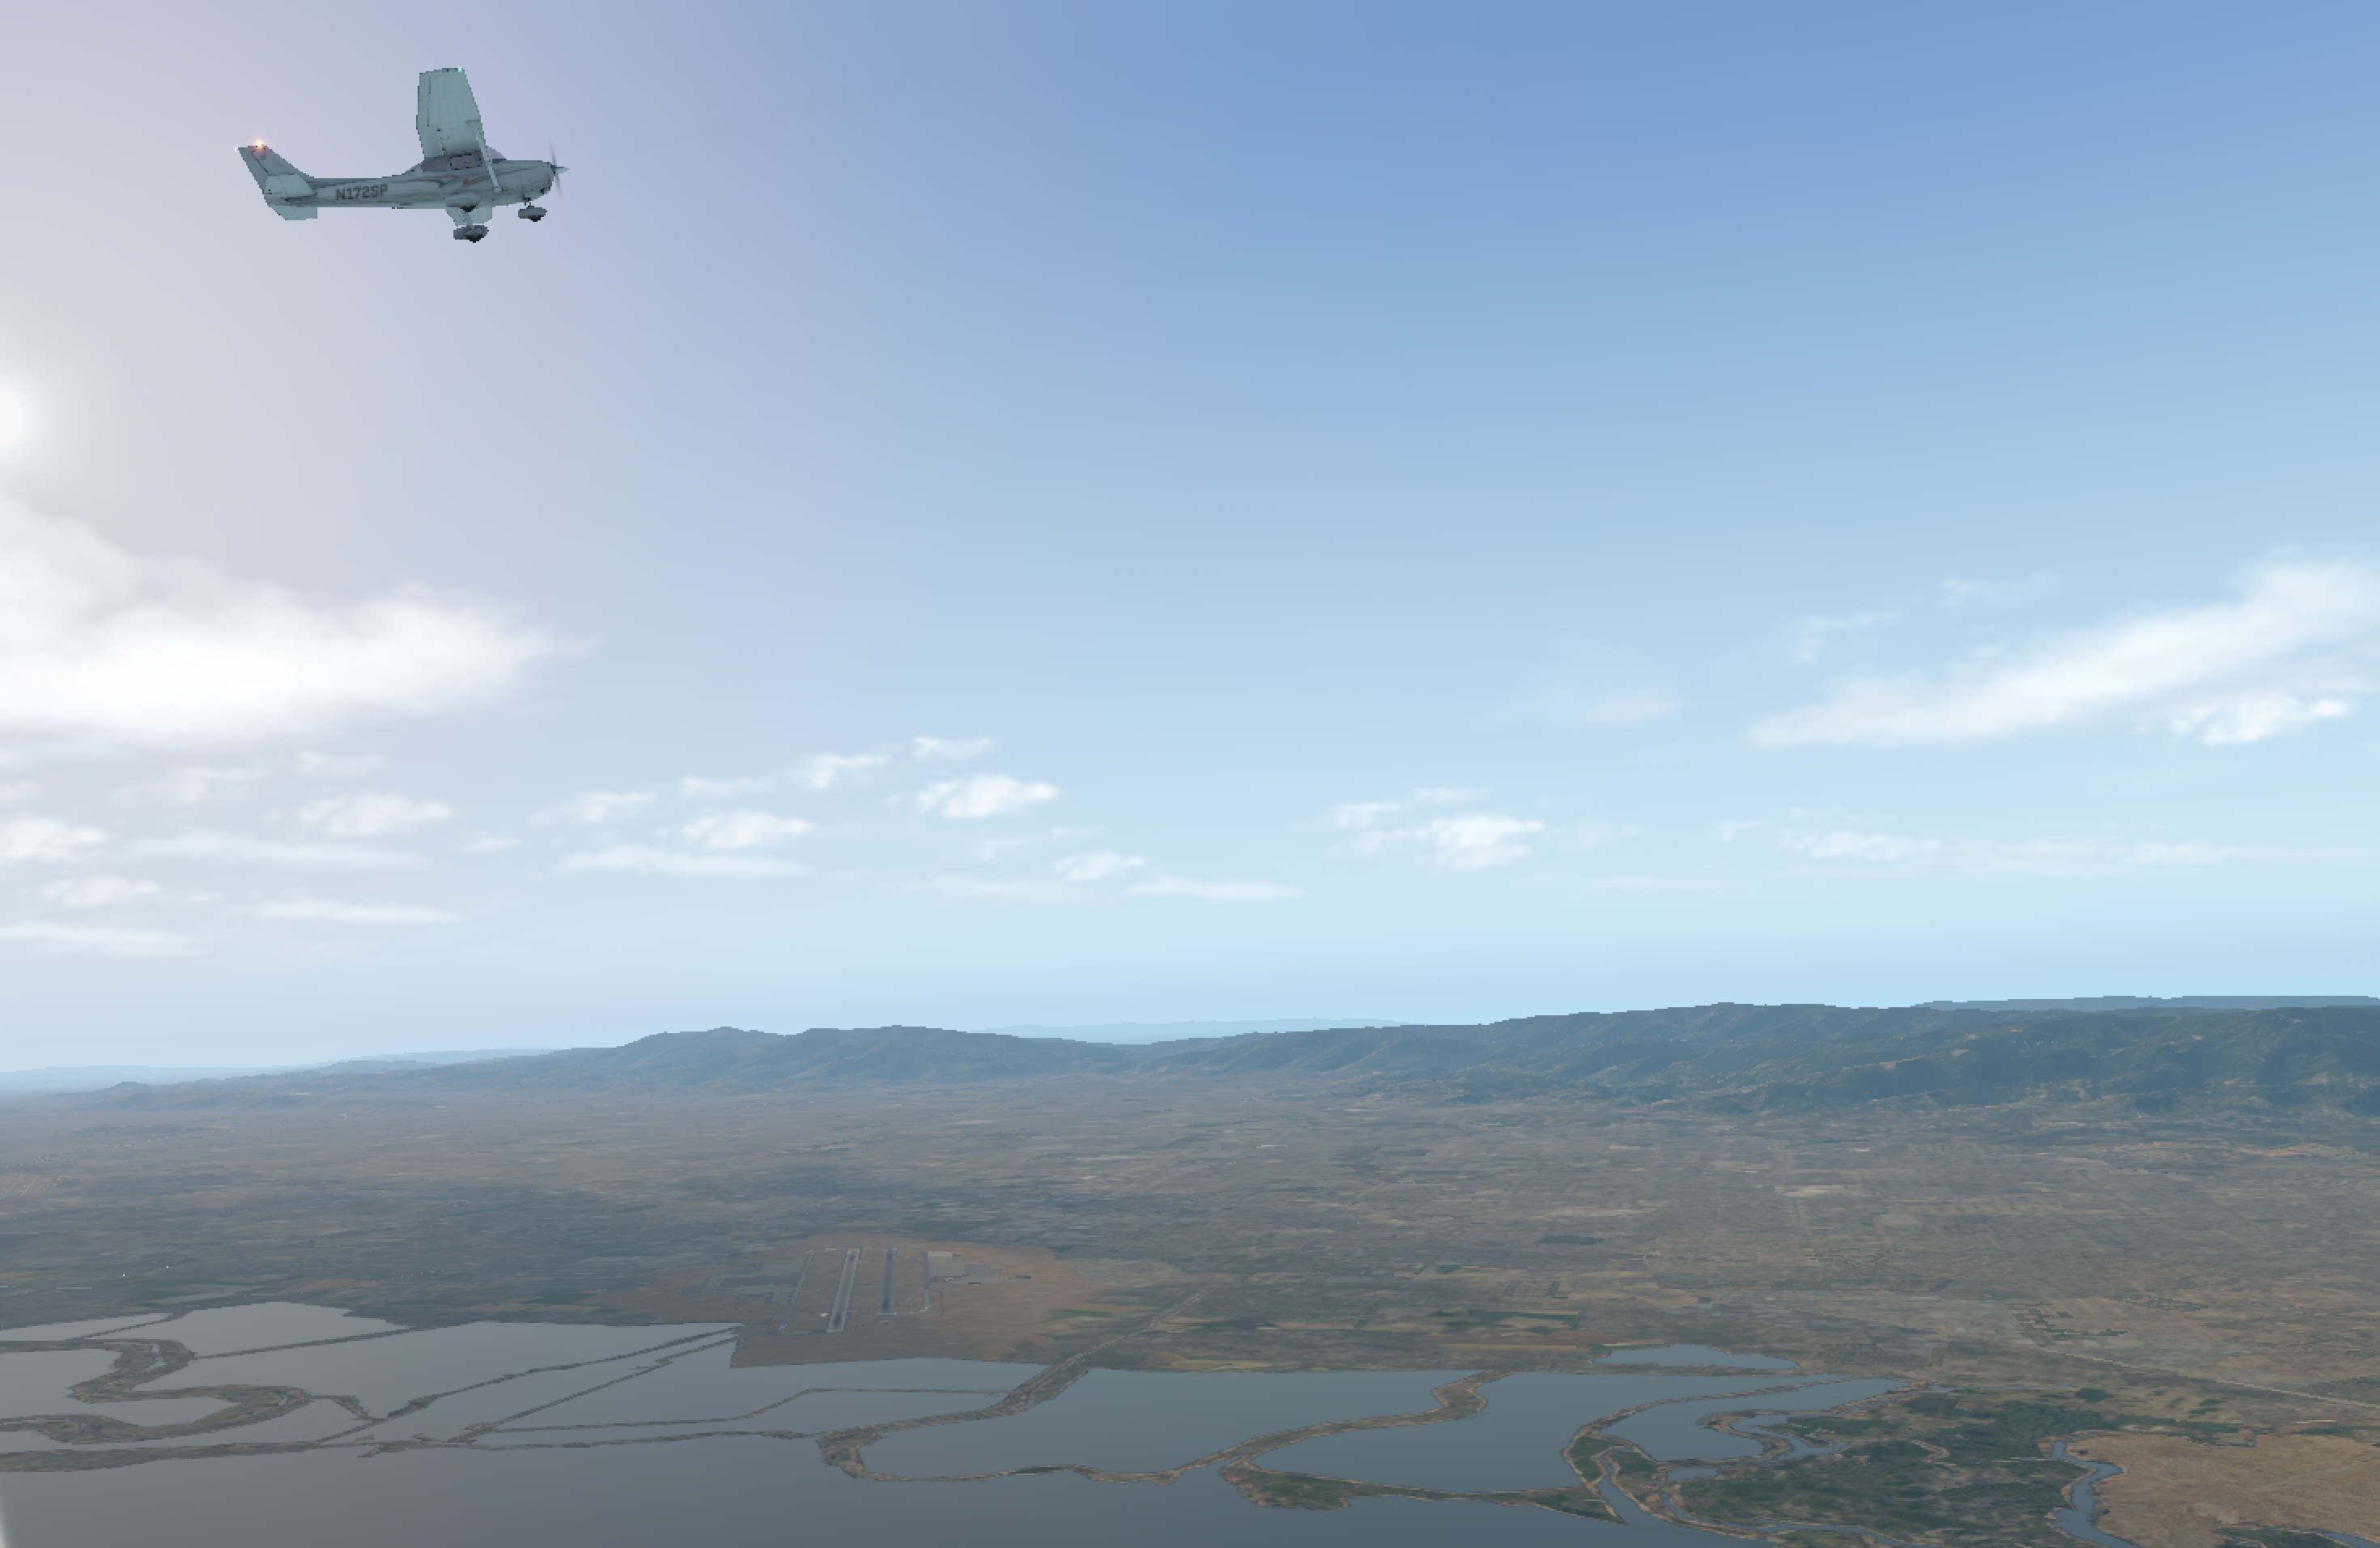aircraft: (342, 127, 607, 226)
